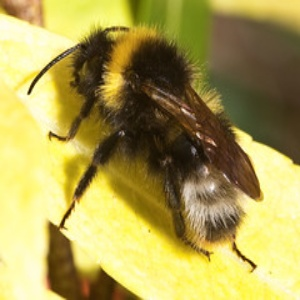bee: (24, 23, 265, 274)
